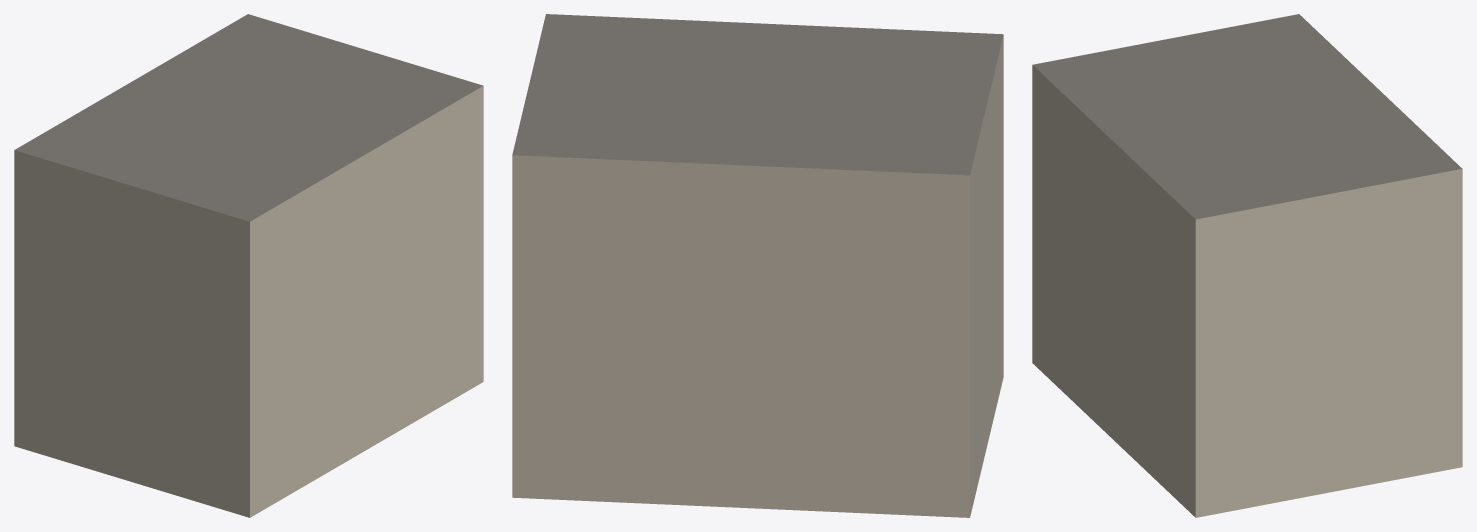
3 renders of one model, left to right at view 1: azimuth 30°, elevation 25°; view 2: azimuth 150°, elevation 25°; view 3: azimuth 270°, elevation 25°, orthographic. The views are drawn at different scales.
Parts seen in each view (by area): view 1: HP-w1286965190; view 2: HP-w1286965190; view 3: HP-w1286965190.
Part boxes in pixels (x1=…): HP-w1286965190: x1=14, y1=14, x2=483, y2=517; HP-w1286965190: x1=512, y1=14, x2=1003, y2=517; HP-w1286965190: x1=1032, y1=14, x2=1462, y2=517.
Size of the model in its own units: 26.58 by 18 by 23.51.
